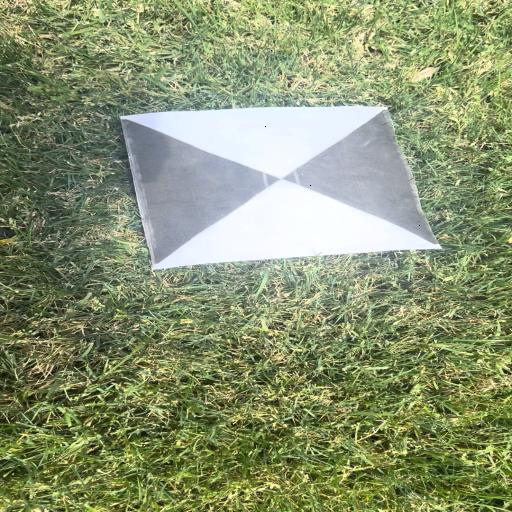target: (126, 105, 444, 270)
